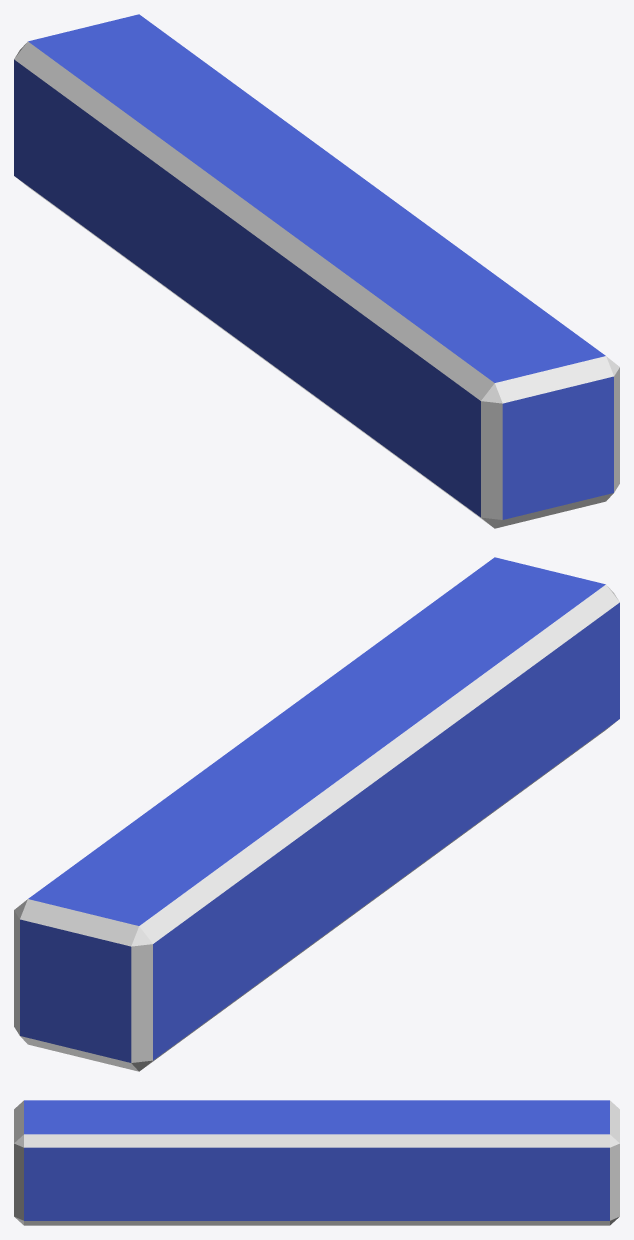
The model's file is Zid 1x6.fbx.
3 views of the same model, one above another, from view 1: azimuth 30°, elevation 25°; view 2: azimuth 150°, elevation 25°; view 3: azimuth 270°, elevation 25° (orthographic). The views are drawn at different scales.
Visible parts, largest first — view 1: Cube.014; view 2: Cube.014; view 3: Cube.014.
Part boxes in pixels (x1,y1,x2,y2): Cube.014: (14, 14, 619, 528); Cube.014: (14, 557, 619, 1071); Cube.014: (14, 1100, 619, 1225).
Bounding box in the file's own units: 1 × 1 × 6.01.
